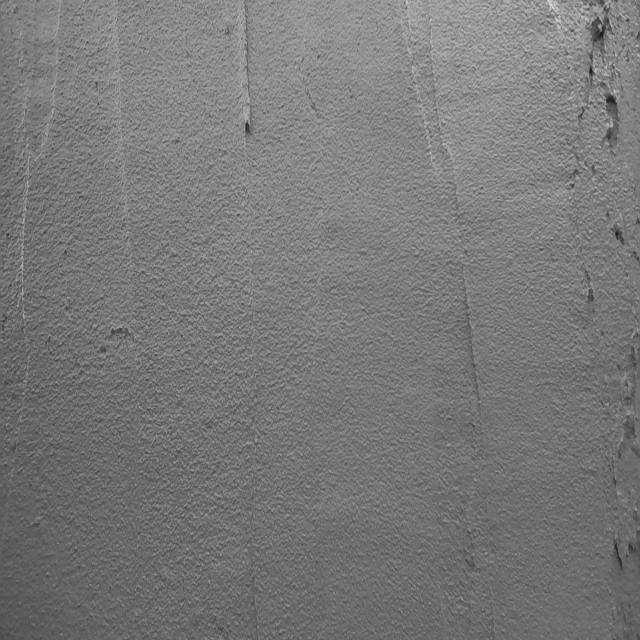trowels marks: (462, 220, 499, 592), (231, 3, 258, 172)
